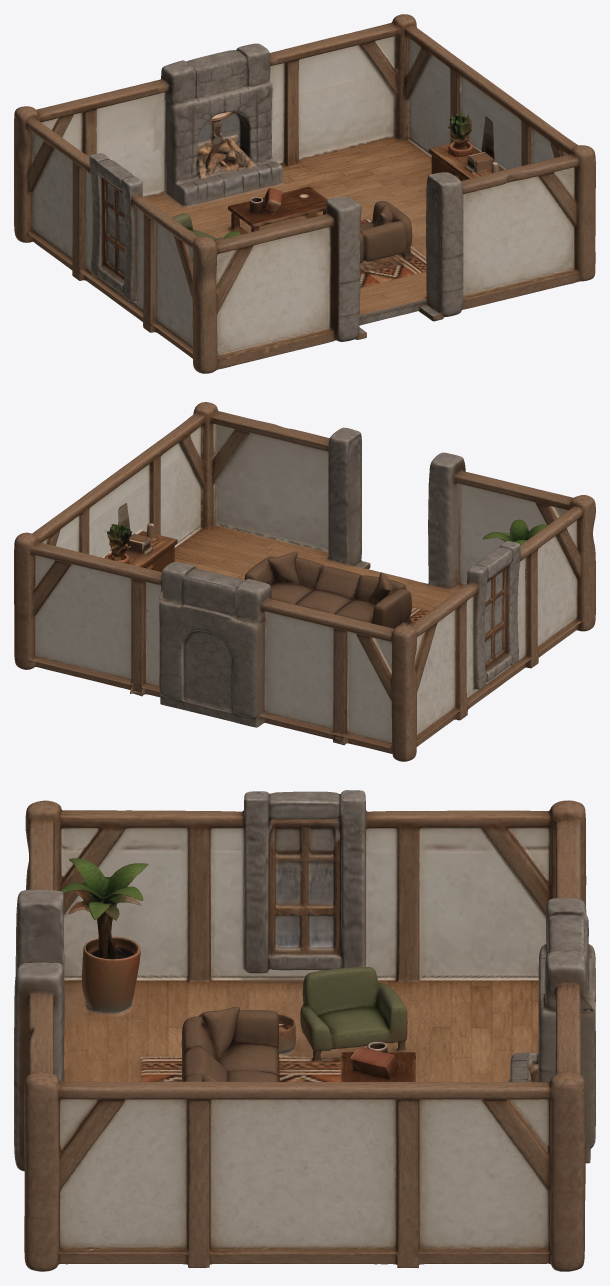
The model's file is livingroom.glb.
The picture shows the model from 3 angles, top to bottom: view 1: azimuth 30°, elevation 25°; view 2: azimuth 150°, elevation 25°; view 3: azimuth 270°, elevation 25°; orthographic projection. The views are drawn at different scales.
Size of the model in its own units: 1.9 by 0.6285 by 1.64.
Materials: 1 (1 with a texture image).
